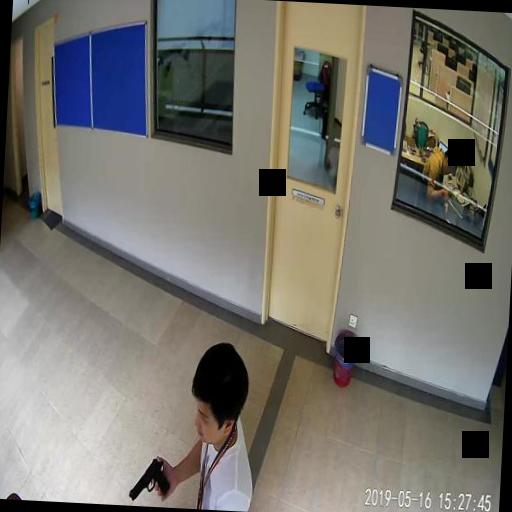Handgun: (128, 454, 170, 502)
